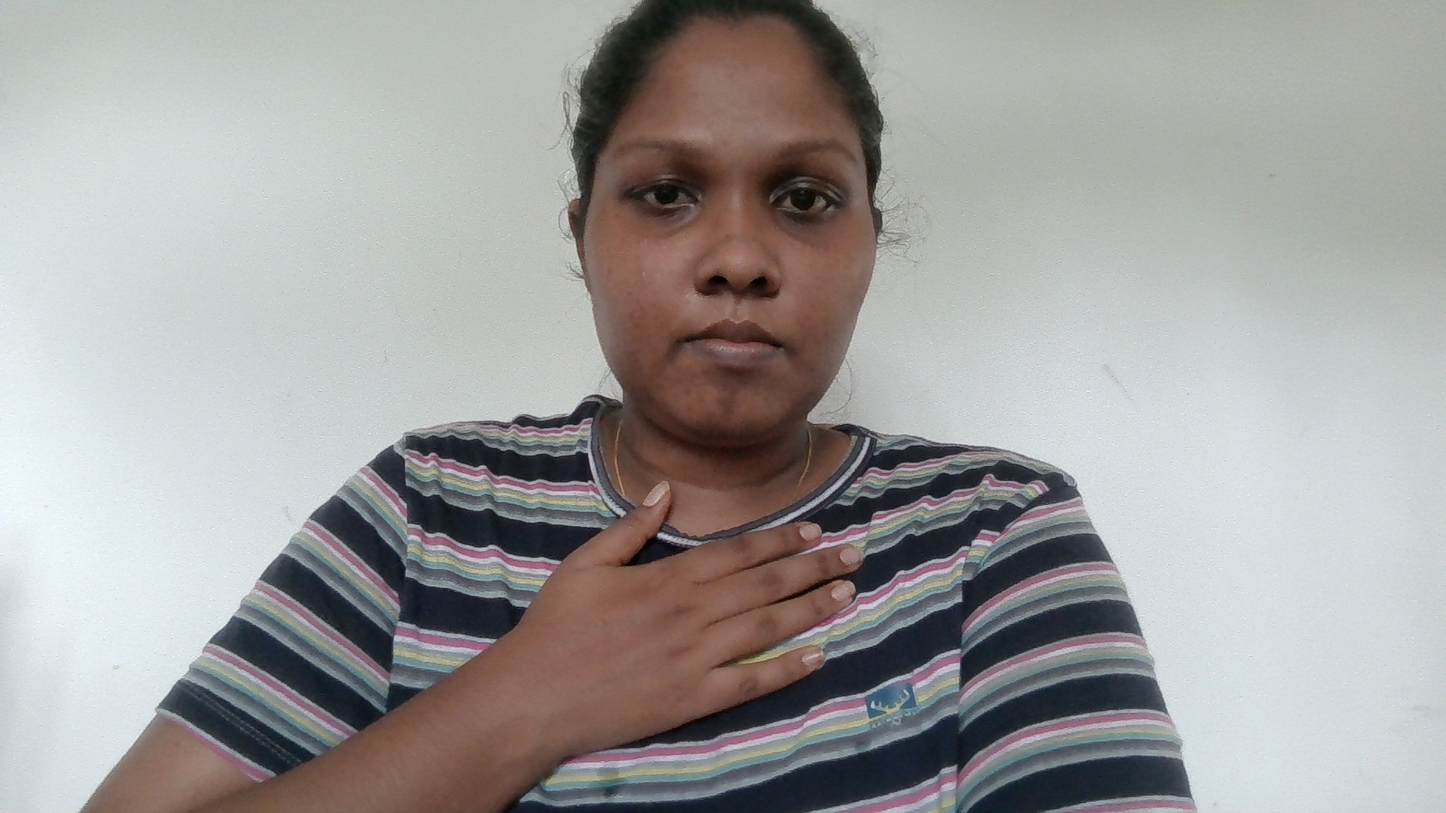Please: (480, 449, 862, 757)
